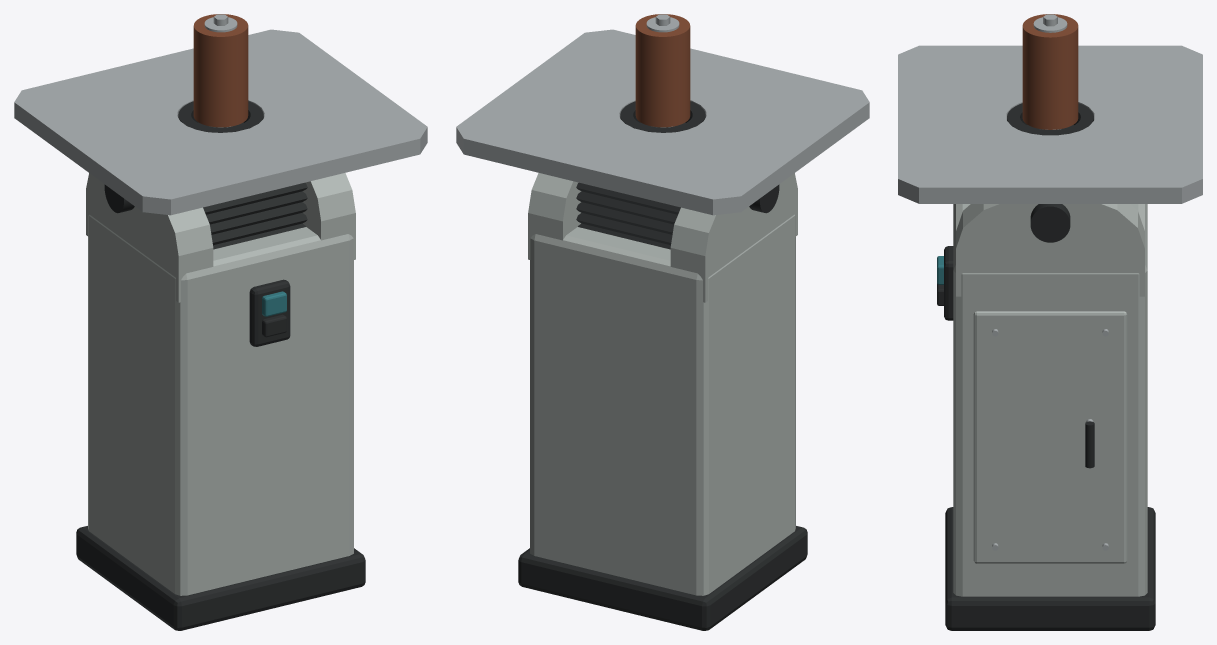
3 views of the same model, side by side, from view 1: azimuth 30°, elevation 25°; view 2: azimuth 150°, elevation 25°; view 3: azimuth 270°, elevation 25° (orthographic). The views are drawn at different scales.
Parts seen in each view (by area): view 1: Tall closed cabinet, Clipped corner worktable with real opening, Black continuous floor plinth, Rounded table shoulder -0.16, Single thick abrasive drum, Continuous corrugated spindle shield, Rounded table shoulder 0.16, Front switch housing, Stepped circular table insert; view 2: Tall closed cabinet, Clipped corner worktable with real opening, Black continuous floor plinth, Rounded table shoulder -0.16, Single thick abrasive drum, Continuous corrugated spindle shield, Rounded table shoulder 0.16, Stepped circular table insert; view 3: Clipped corner worktable with real opening, Right service panel, Tall closed cabinet, Rounded table shoulder 0.16, Black continuous floor plinth, Single thick abrasive drum, Side table lock knob 0.226, Stepped circular table insert, Front switch housing, Right panel handle.
Boxes of the visible parts, <box> form: Tall closed cabinet: <box>88,214,353,595</box>; Clipped corner worktable with real opening: <box>14,29,427,215</box>; Black continuous floor plinth: <box>76,526,365,630</box>; Rounded table shoulder -0.16: <box>86,173,213,302</box>; Single thick abrasive drum: <box>193,14,248,127</box>; Continuous corrugated spindle shield: <box>203,182,307,249</box>; Rounded table shoulder 0.16: <box>302,173,355,259</box>; Front switch housing: <box>249,279,290,346</box>; Stepped circular table insert: <box>178,101,263,132</box>; Tall closed cabinet: <box>530,214,795,595</box>; Clipped corner worktable with real opening: <box>456,29,869,215</box>; Black continuous floor plinth: <box>518,526,807,630</box>; Rounded table shoulder -0.16: <box>670,173,797,302</box>; Single thick abrasive drum: <box>635,14,690,127</box>; Continuous corrugated spindle shield: <box>576,182,680,249</box>; Rounded table shoulder 0.16: <box>528,173,581,259</box>; Stepped circular table insert: <box>620,101,705,132</box>; Clipped corner worktable with real opening: <box>898,45,1202,203</box>; Right service panel: <box>973,311,1127,563</box>; Tall closed cabinet: <box>953,204,1147,596</box>; Rounded table shoulder 0.16: <box>956,204,1144,296</box>; Black continuous floor plinth: <box>945,507,1155,630</box>; Single thick abrasive drum: <box>1022,14,1078,129</box>; Side table lock knob 0.226: <box>1030,204,1070,242</box>; Stepped circular table insert: <box>1007,103,1093,135</box>; Front switch housing: <box>944,246,953,320</box>; Right panel handle: <box>1085,421,1094,468</box>.
Size of the model in its own units: 64 by 119 by 58.
